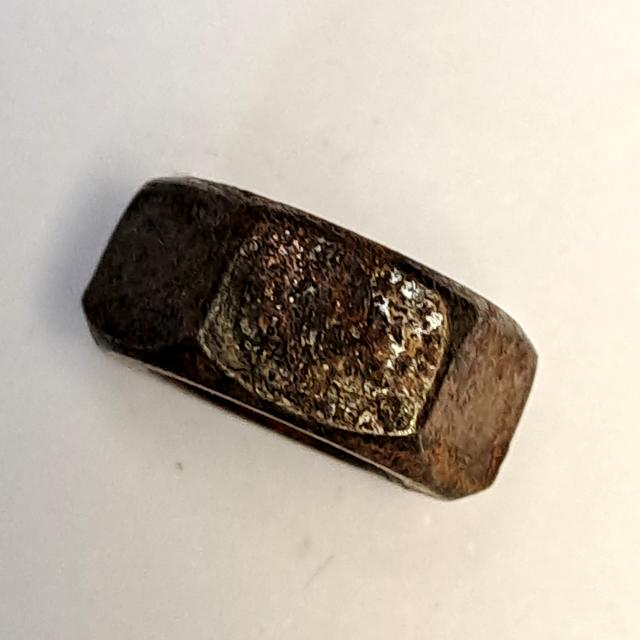Side_Rust: (68, 158, 551, 520)
